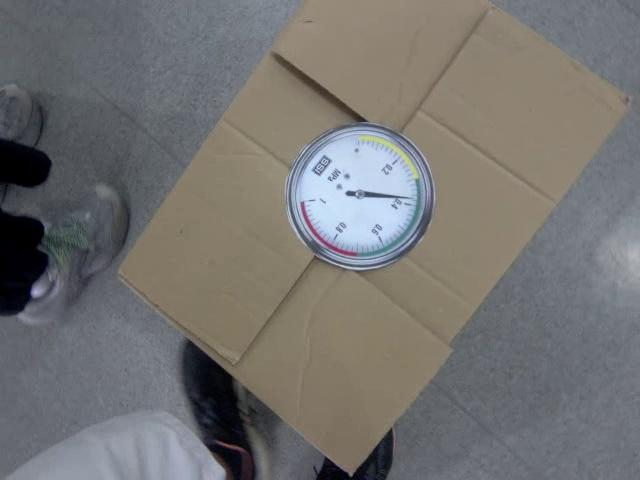Dashboard: (282, 121, 434, 273)
ssi: (310, 154, 332, 177)
